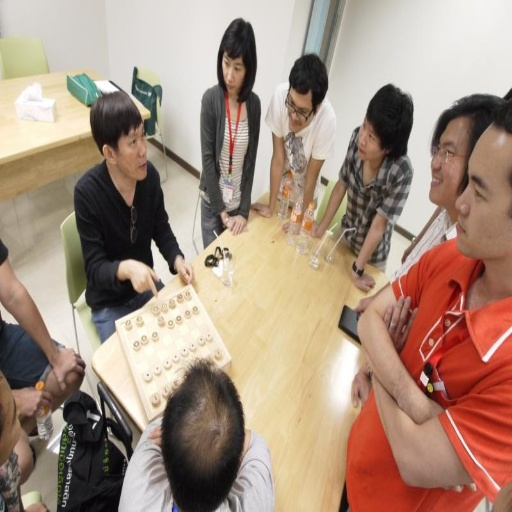hand: (380, 294, 421, 356), (51, 345, 87, 394), (129, 260, 160, 297), (17, 385, 53, 415), (348, 369, 373, 410), (348, 269, 375, 294), (174, 258, 195, 285), (144, 422, 162, 450), (222, 213, 249, 229), (227, 213, 245, 236), (249, 200, 272, 217), (352, 294, 373, 310), (280, 217, 299, 233), (440, 483, 478, 491), (308, 217, 318, 237)
